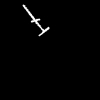double_crochet: (23, 5, 48, 35)
